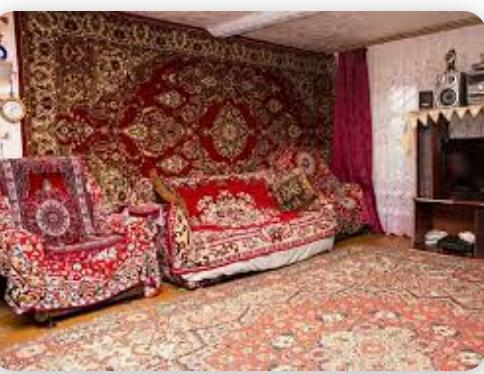carpet: (4, 6, 376, 235), (147, 133, 343, 290), (0, 157, 161, 320)
